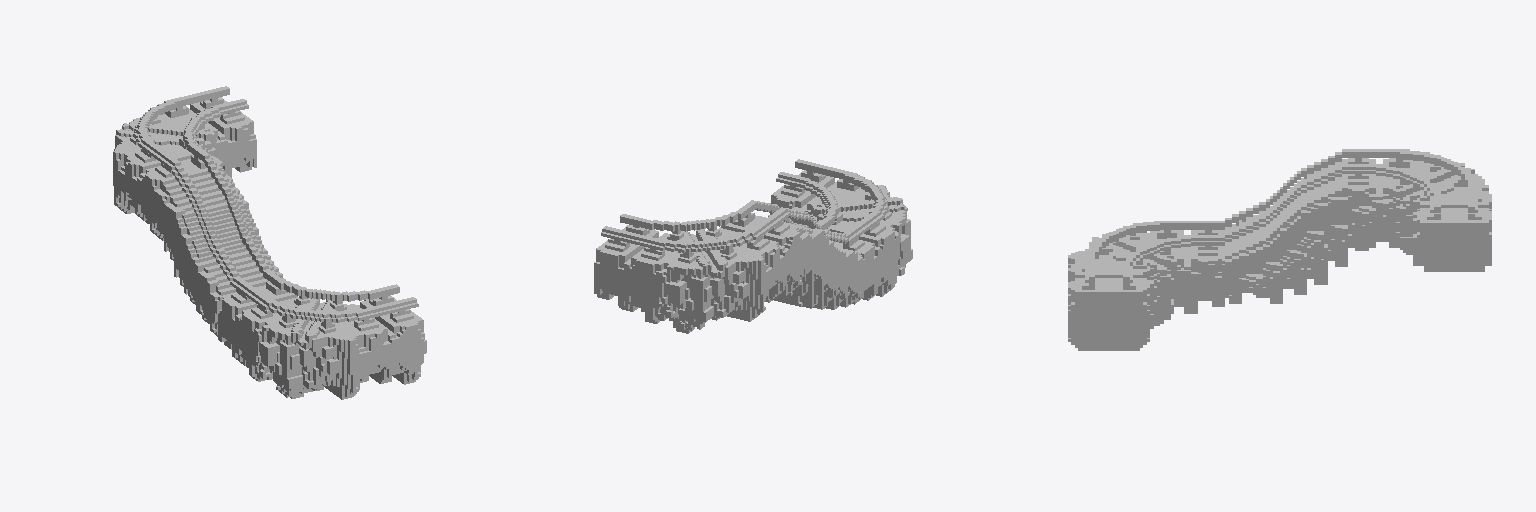
Rendered from rail curve connection down.obj.
The picture shows the model from 3 angles: view 1: azimuth 30°, elevation 25°; view 2: azimuth 150°, elevation 25°; view 3: azimuth 270°, elevation 25°; orthographic projection.
Visible parts, largest first — view 1: object 1; view 2: object 1; view 3: object 1.
Boxes of the visible parts, <box> form: object 1: <box>113,86,426,399</box>; object 1: <box>594,159,912,333</box>; object 1: <box>1068,149,1491,350</box>.
Size of the model in its own units: 4.6 by 5.3 by 12.4.